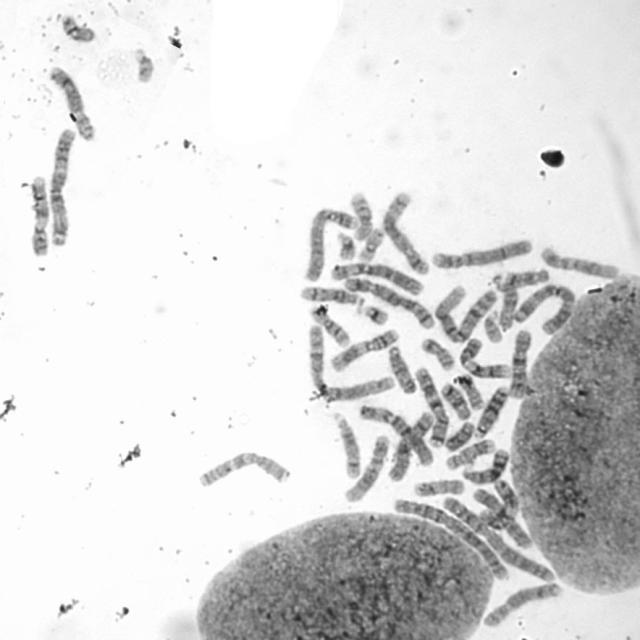A1: (302, 320, 397, 405), (431, 280, 501, 345)
A2: (438, 491, 557, 585), (387, 494, 511, 583)
A3: (46, 122, 80, 249), (509, 280, 578, 336)
B4: (301, 203, 359, 283), (427, 234, 535, 271)
B5: (341, 273, 437, 331), (379, 186, 432, 276)
C10: (476, 485, 535, 549), (505, 324, 535, 400)
C11: (327, 324, 402, 374), (475, 477, 520, 529)
C12: (341, 430, 392, 503), (537, 241, 623, 280)
C6: (354, 400, 435, 468), (326, 257, 426, 297)
C7: (194, 448, 293, 489), (410, 363, 450, 449)
C8: (44, 60, 99, 144), (480, 578, 566, 630)
C9: (456, 334, 514, 380), (26, 171, 52, 258)
D13: (471, 381, 511, 439), (458, 444, 511, 486)
D14: (328, 408, 363, 480), (296, 281, 367, 307)
D15: (384, 341, 420, 395), (494, 270, 519, 332)
E16: (306, 303, 353, 349), (346, 187, 375, 242)
E17: (442, 434, 499, 472), (410, 474, 466, 498)
E18: (437, 379, 473, 421), (495, 264, 551, 290)
F19: (453, 370, 487, 412), (354, 227, 387, 268)
F20: (417, 334, 458, 372), (57, 11, 98, 44)
G21: (353, 300, 390, 326), (332, 227, 357, 262)
G22: (128, 41, 157, 85), (480, 305, 504, 344)
X: (385, 408, 438, 484)
Y: (442, 417, 476, 452)
